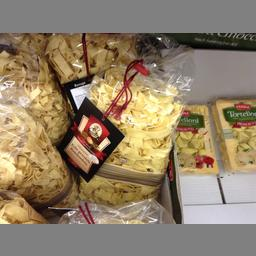pasta: (73, 57, 184, 201), (212, 94, 254, 172)
